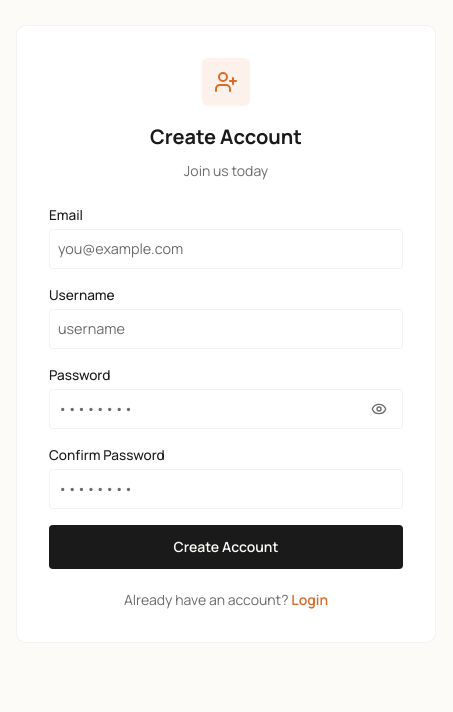
Test: RegisterPage › shows error on failed registration
This screenshot has width=453, height=712.
Type "dup@dup.com" into the field with placeholder "you@example.com".
click(226, 249); type("dup@dup.com")  # box [49,230,403,269]
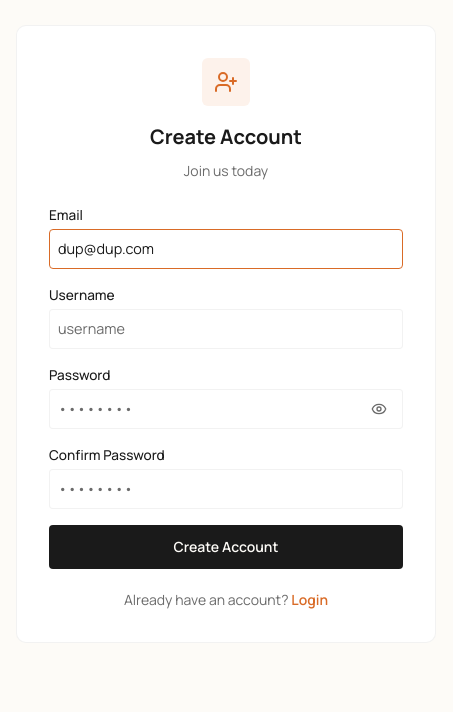
Type "dup" into the field with placeholder "username".
click(226, 329); type("dup")  # box [49,309,403,349]
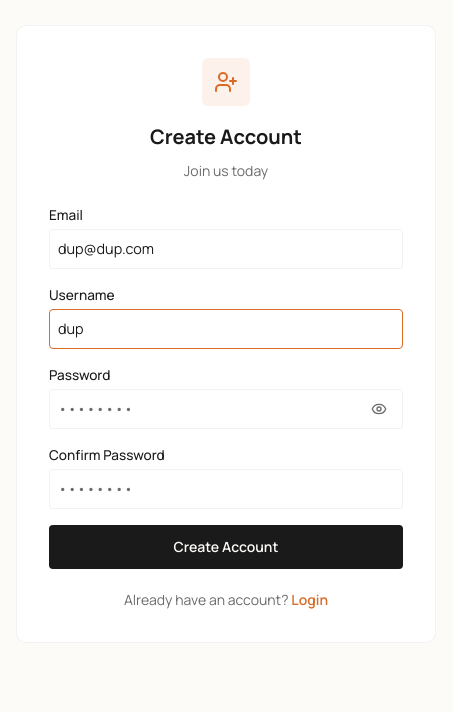
Type "pass123" into the 1st password field with placeholder "••••••••".
click(226, 409); type("pass123")  # box [49,389,403,429]
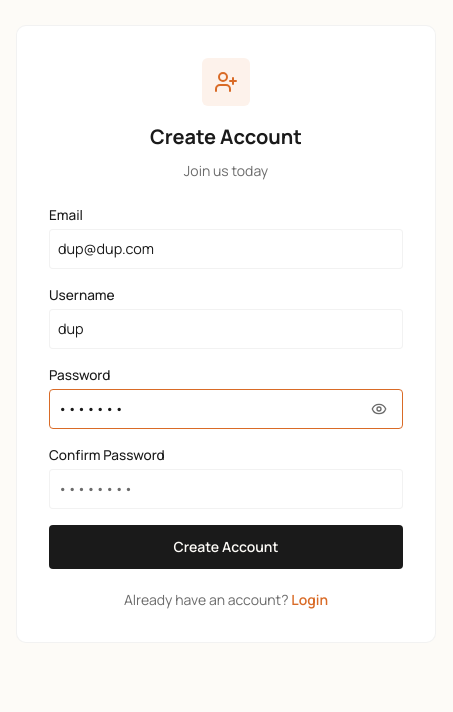
Type "pass123" into the password field with placeholder "••••••••".
click(226, 489); type("pass123")  # box [49,469,403,509]
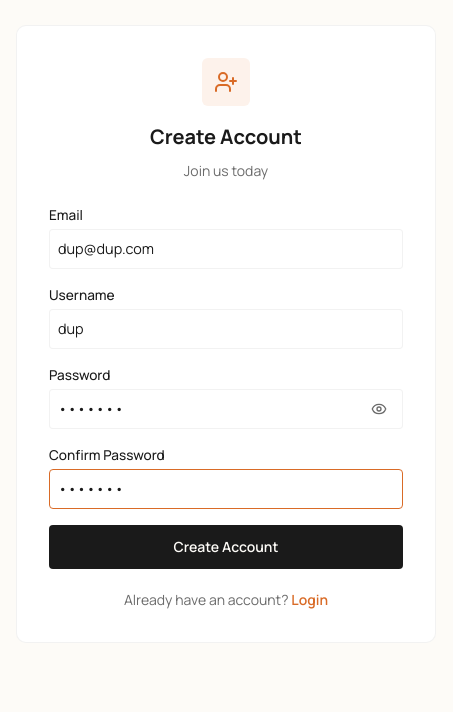
Click the button "Create Account".
click(226, 547)  # box [49,525,403,569]
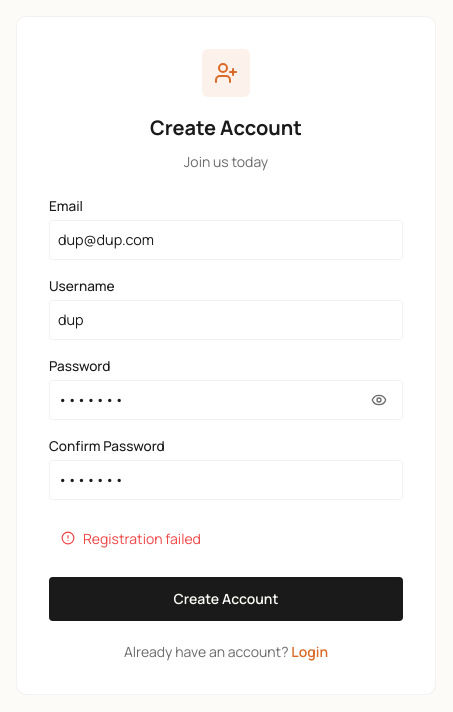
Now the text "Registration failed" is shown, box [61,529,201,548]
